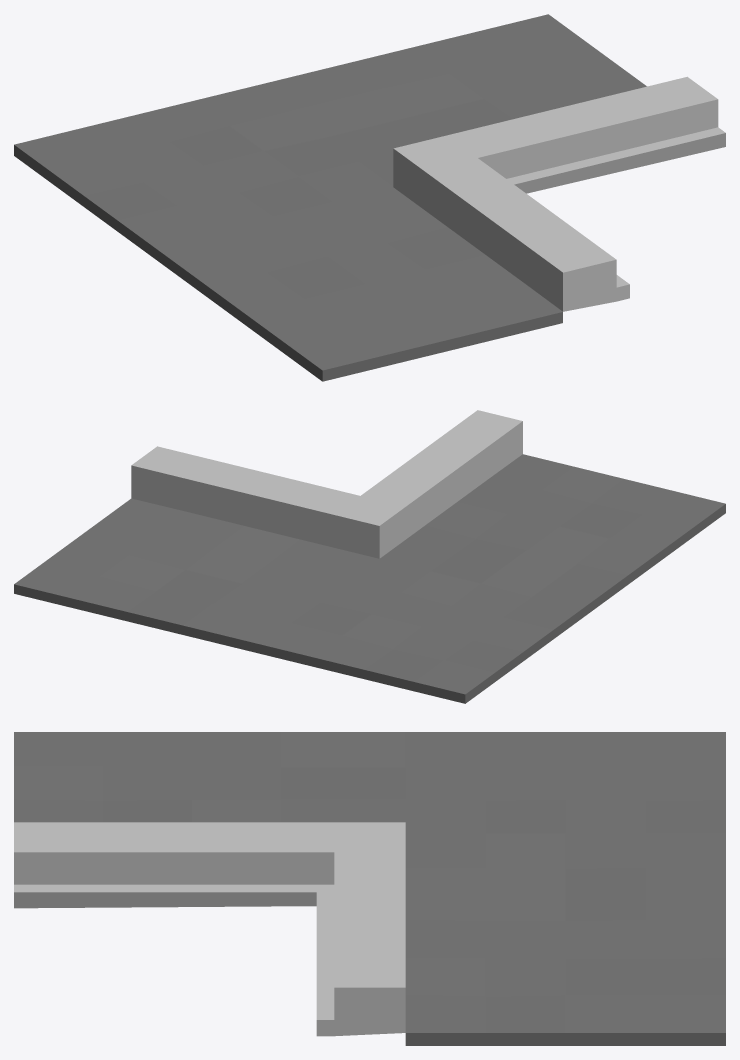
File: RoofFlatCornerInv.fbx
The picture shows the model from 3 angles, top to bottom: view 1: azimuth 30°, elevation 25°; view 2: azimuth 150°, elevation 25°; view 3: azimuth 270°, elevation 25°; orthographic projection. The views are drawn at different scales.
Visible parts, largest first — view 1: RoofFlatCornerInv; view 2: RoofFlatCornerInv; view 3: RoofFlatCornerInv.
Part boxes in pixels (<box>): RoofFlatCornerInv: <box>14,14,725,381</box>; RoofFlatCornerInv: <box>14,410,725,703</box>; RoofFlatCornerInv: <box>14,732,725,1045</box>.
Bounding box in the file's own units: 200 × 18 × 200.
